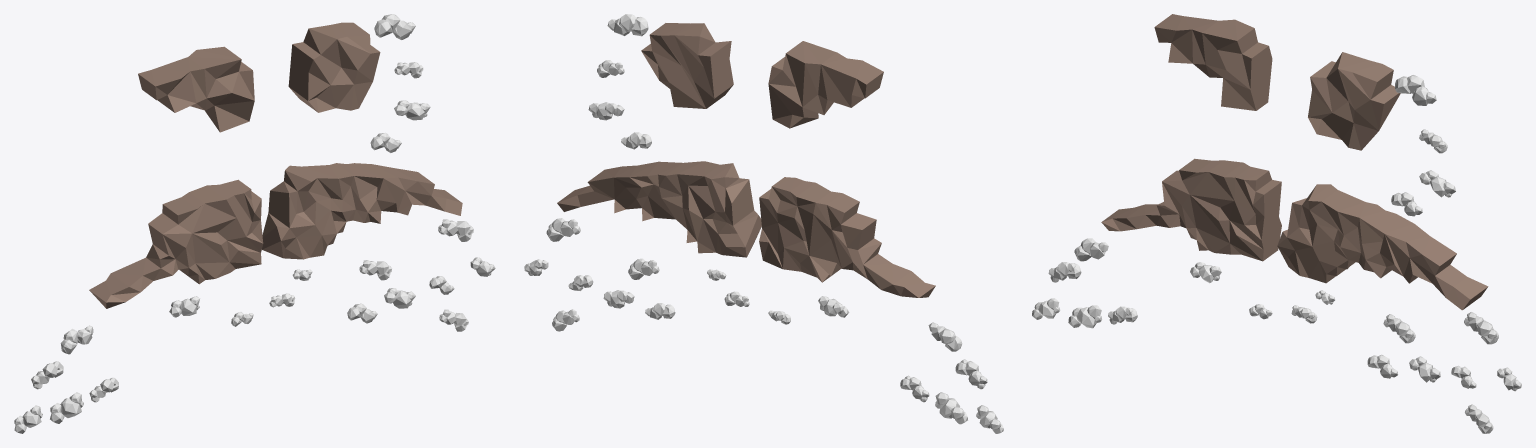
File: LrgShard_TwoWaterfalls_3DMesh.fbx
3 views of the same model, side by side, from view 1: azimuth 30°, elevation 25°; view 2: azimuth 150°, elevation 25°; view 3: azimuth 330°, elevation 25° (orthographic). The views are drawn at different scales.
Parts seen in each view (by area): view 1: Islands14, Islands15, Islands21, Islands22, Cloud25:Cloud1, Cloud40, Cloud37, Cloud2, Cloud27:Cloud3, Cloud38, Cloud39, Cloud36 (+2 smaller); view 2: Islands15, Islands14, Islands22, Islands21, Cloud25:Cloud1, Cloud40, Cloud2, Cloud37, Cloud38, Cloud27:Cloud3, Cloud31, Cloud39; view 3: Islands14, Islands15, Islands22, Islands21, Cloud25:Cloud1, Cloud40, Cloud2, Cloud37, Cloud27:Cloud3, Cloud31, Cloud38, Cloud30.
Part boxes in pixels (x1=…): Islands14: x1=262, y1=163, x2=462, y2=259; Islands15: x1=89, y1=179, x2=263, y2=308; Islands21: x1=288, y1=22, x2=380, y2=112; Islands22: x1=138, y1=46, x2=254, y2=132; Cloud25:Cloud1: x1=374, y1=14, x2=415, y2=39; Cloud40: x1=50, y1=392, x2=83, y2=423; Cloud37: x1=60, y1=325, x2=93, y2=354; Cloud2: x1=438, y1=219, x2=473, y2=241; Cloud27:Cloud3: x1=394, y1=100, x2=430, y2=120; Cloud38: x1=31, y1=361, x2=63, y2=389; Cloud39: x1=14, y1=405, x2=42, y2=433; Cloud36: x1=169, y1=296, x2=199, y2=317; Islands15: x1=759, y1=177, x2=935, y2=297; Islands14: x1=557, y1=161, x2=761, y2=257; Islands22: x1=768, y1=41, x2=883, y2=128; Islands21: x1=641, y1=23, x2=733, y2=108; Cloud25:Cloud1: x1=607, y1=14, x2=648, y2=36; Cloud40: x1=935, y1=392, x2=967, y2=424; Cloud2: x1=546, y1=218, x2=580, y2=241; Cloud37: x1=928, y1=322, x2=962, y2=351; Cloud38: x1=955, y1=359, x2=987, y2=389; Cloud27:Cloud3: x1=588, y1=102, x2=624, y2=120; Cloud31: x1=628, y1=258, x2=659, y2=279; Cloud39: x1=976, y1=405, x2=1003, y2=433; Islands14: x1=1277, y1=184, x2=1488, y2=310; Islands15: x1=1101, y1=158, x2=1281, y2=261; Islands22: x1=1154, y1=14, x2=1272, y2=110; Islands21: x1=1308, y1=52, x2=1400, y2=150; Cloud25:Cloud1: x1=1395, y1=75, x2=1436, y2=105; Cloud40: x1=1068, y1=305, x2=1101, y2=328; Cloud2: x1=1464, y1=312, x2=1498, y2=344; Cloud37: x1=1074, y1=238, x2=1108, y2=261; Cloud27:Cloud3: x1=1419, y1=170, x2=1455, y2=197; Cloud31: x1=1383, y1=314, x2=1415, y2=343; Cloud38: x1=1048, y1=262, x2=1081, y2=282; Cloud30: x1=1409, y1=356, x2=1440, y2=382.
Size of the model in its own units: 69.2 by 46.59 by 5.63.
